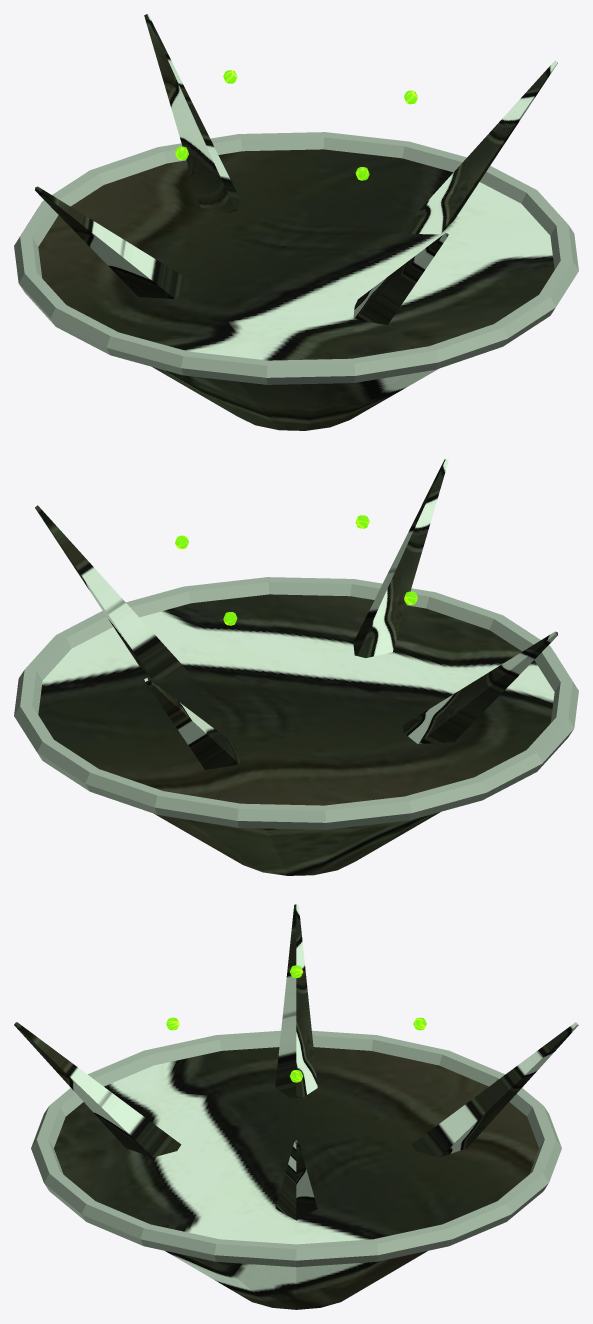
The model's file is verdant_acid_pool.glb.
3 renders of one model, top to bottom at view 1: azimuth 30°, elevation 25°; view 2: azimuth 150°, elevation 25°; view 3: azimuth 270°, elevation 25°, orthographic. The views are drawn at different scales.
Visible parts, largest first — view 1: VerdantAcidPool; view 2: VerdantAcidPool; view 3: VerdantAcidPool.
Part boxes in pixels (x1=…): VerdantAcidPool: x1=14, y1=14, x2=578, y2=430; VerdantAcidPool: x1=14, y1=459, x2=578, y2=875; VerdantAcidPool: x1=14, y1=904, x2=578, y2=1309.
Bounding box in the file's own units: 4.94 × 2.56 × 4.94.
Materials: 3 (2 with a texture image).
